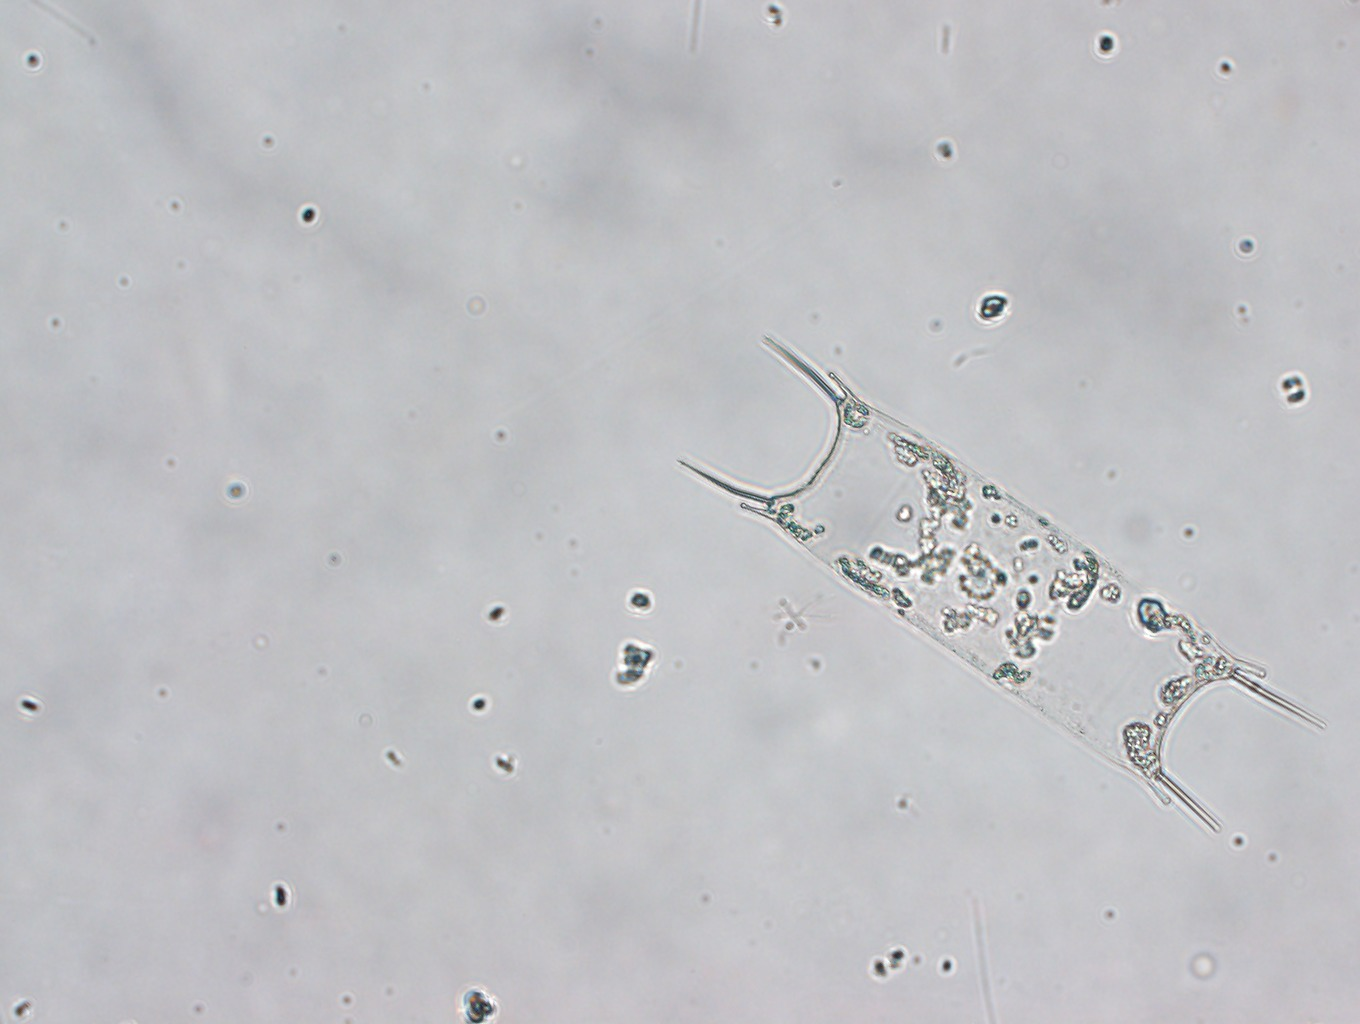biddulphia: (676, 335, 1328, 834)
